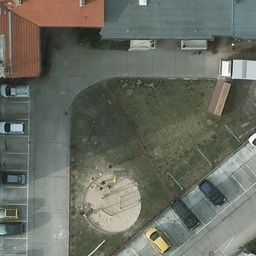car: (169, 197, 203, 231), (200, 179, 226, 207), (0, 85, 30, 100), (0, 223, 28, 238), (0, 119, 26, 134), (1, 173, 26, 187), (0, 208, 20, 220)
